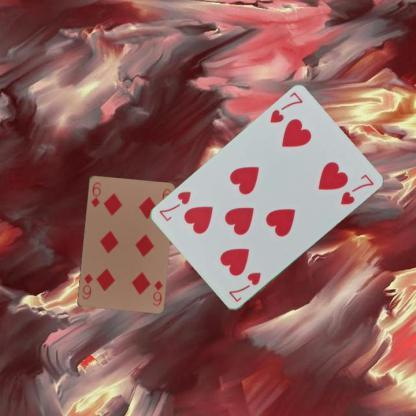6d: (88, 179, 102, 208), (150, 277, 164, 306)
7h: (267, 89, 304, 124), (226, 270, 262, 304)
